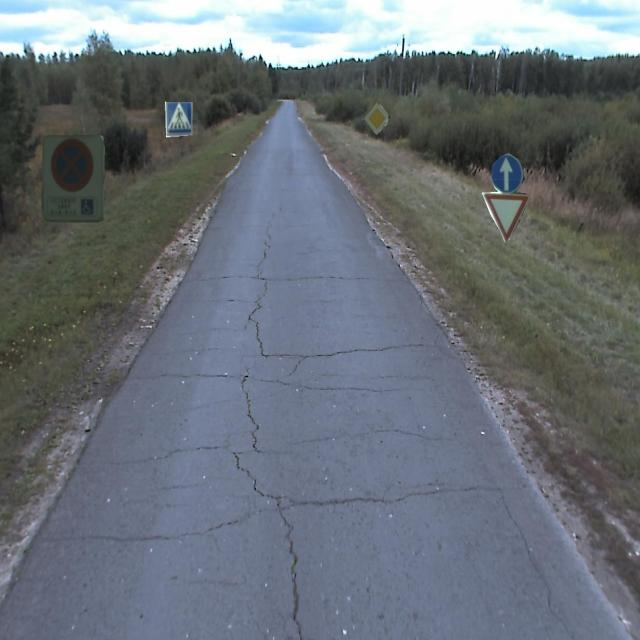road: (0, 101, 628, 639)
